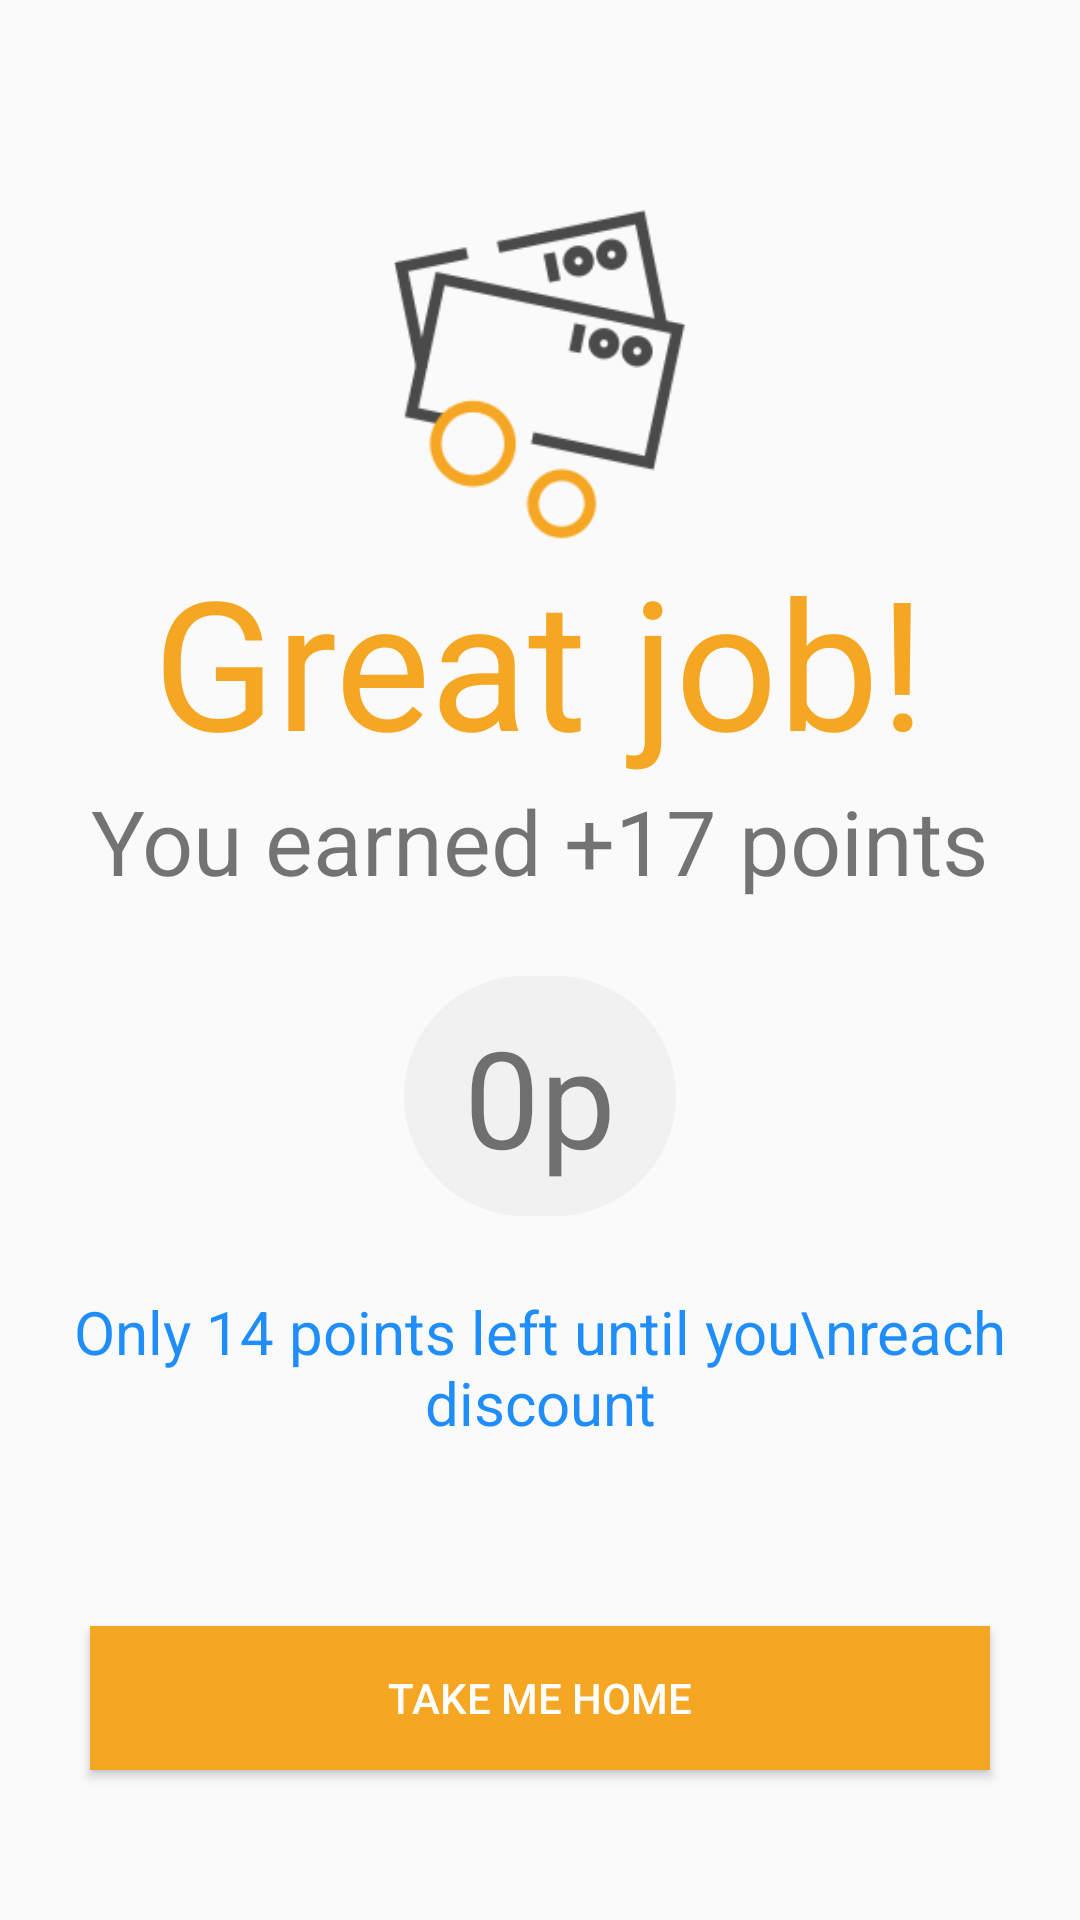

Screen size 1080x1920. Icon name, then its center in pixels as (x=x, y=y):
money: (x=539, y=374)
